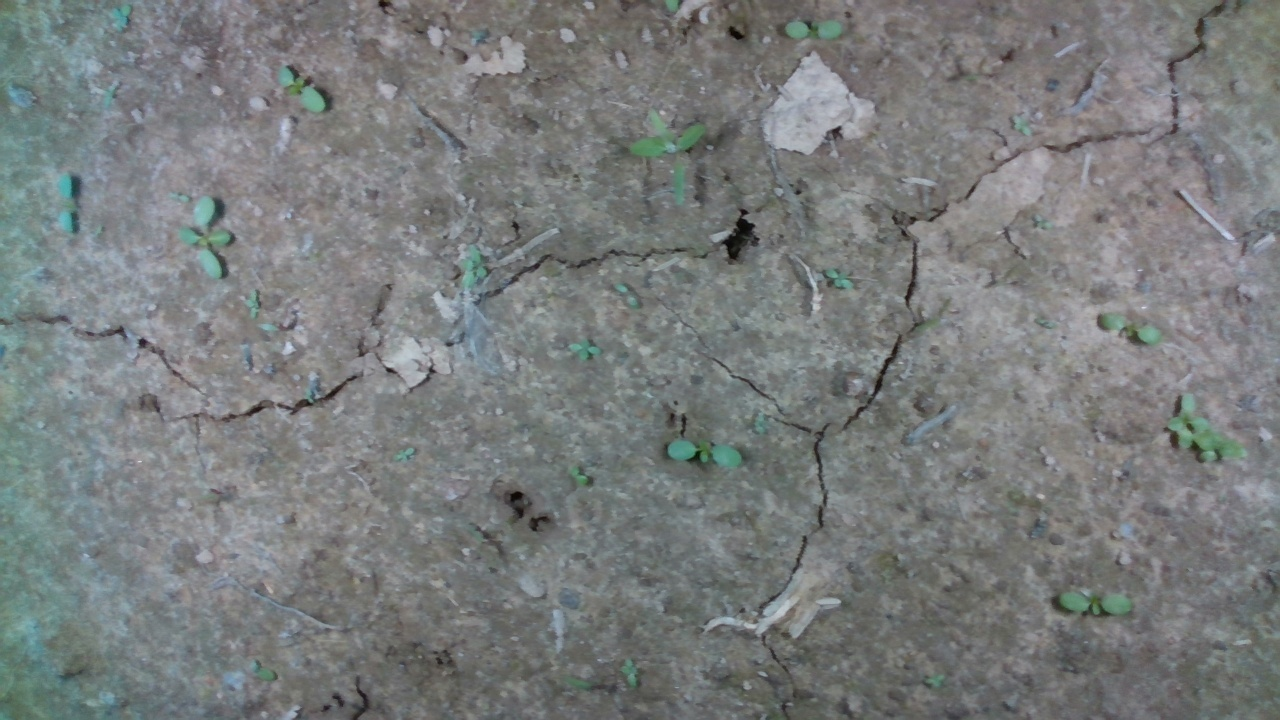weed: (628, 106, 707, 210), (170, 196, 234, 280), (267, 64, 332, 120), (668, 429, 743, 475), (1056, 579, 1136, 622), (1092, 297, 1161, 343), (51, 171, 81, 237), (821, 259, 865, 293), (564, 329, 600, 369), (784, 18, 848, 40), (561, 458, 599, 491), (1002, 108, 1040, 141), (391, 442, 420, 473)
